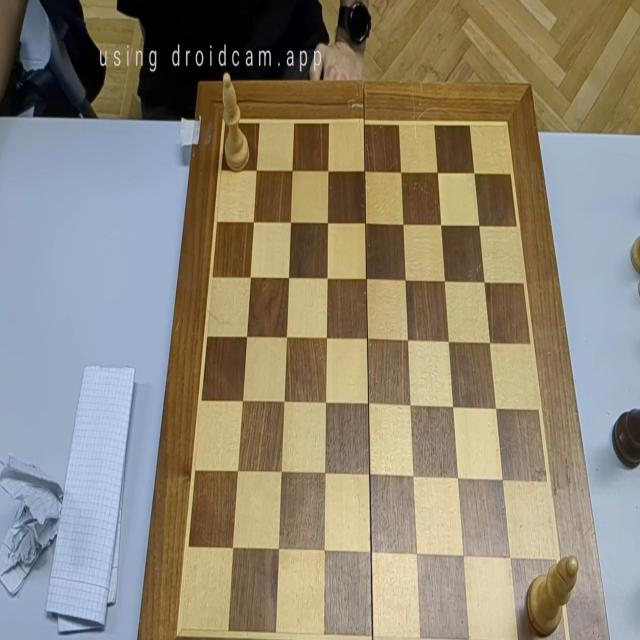white_bishop: (527, 554, 579, 636), (222, 72, 250, 172)
